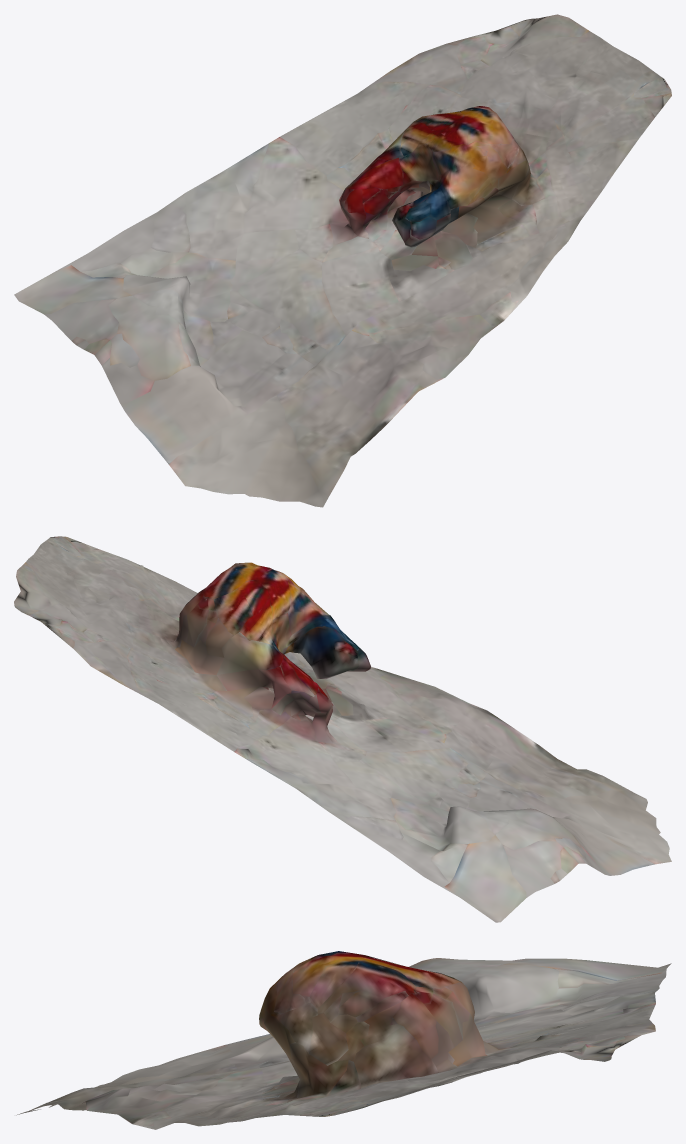
File: hall.glb
The picture shows the model from 3 angles, top to bottom: view 1: azimuth 30°, elevation 25°; view 2: azimuth 150°, elevation 25°; view 3: azimuth 270°, elevation 25°; orthographic projection. The views are drawn at different scales.
Bounding box in the file's own units: 2.11 × 0.9358 × 1.54.
Materials: 1 (1 with a texture image).
